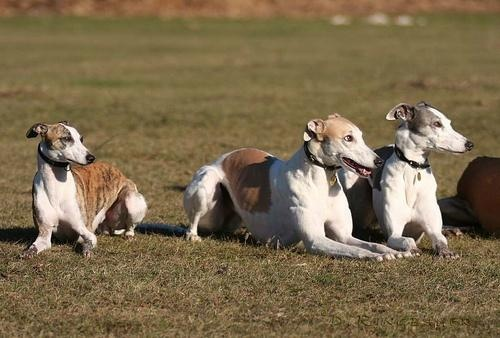dog: (178, 108, 410, 288), (351, 87, 474, 267), (16, 108, 150, 260)
